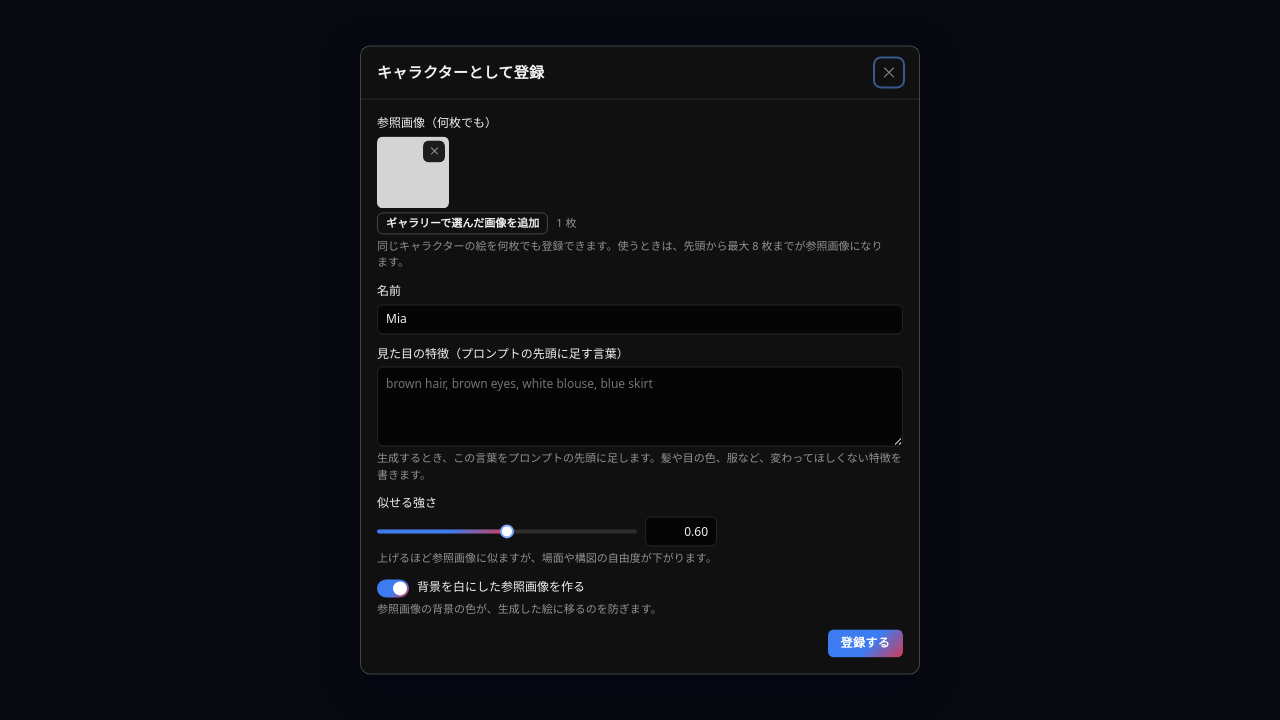
Test: cancelling a save › stops the white-background pass without an error and keeps the dialog open
expect the element with test id "character-dialog" is shown: met, box [377, 115, 903, 658]
Click the button with test id "character-save": (865, 644) [828, 630, 903, 658]
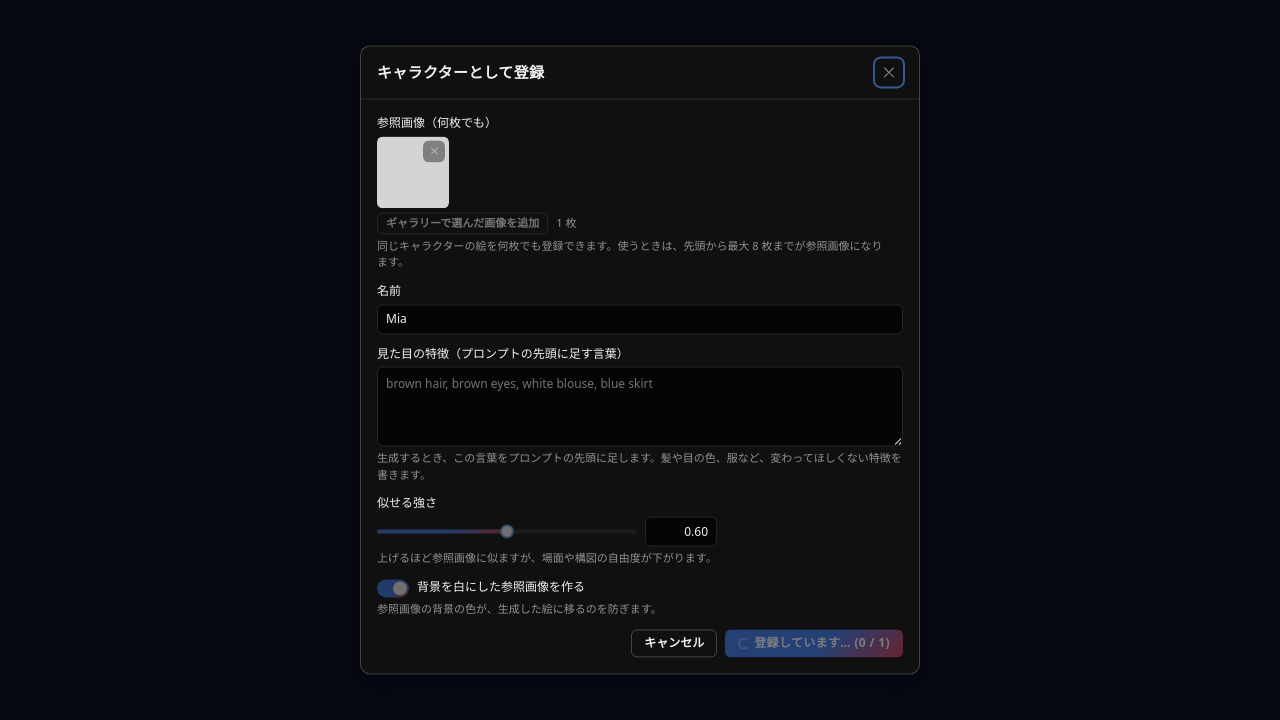
Click the button with test id "character-cancel": (674, 644) [631, 630, 717, 658]
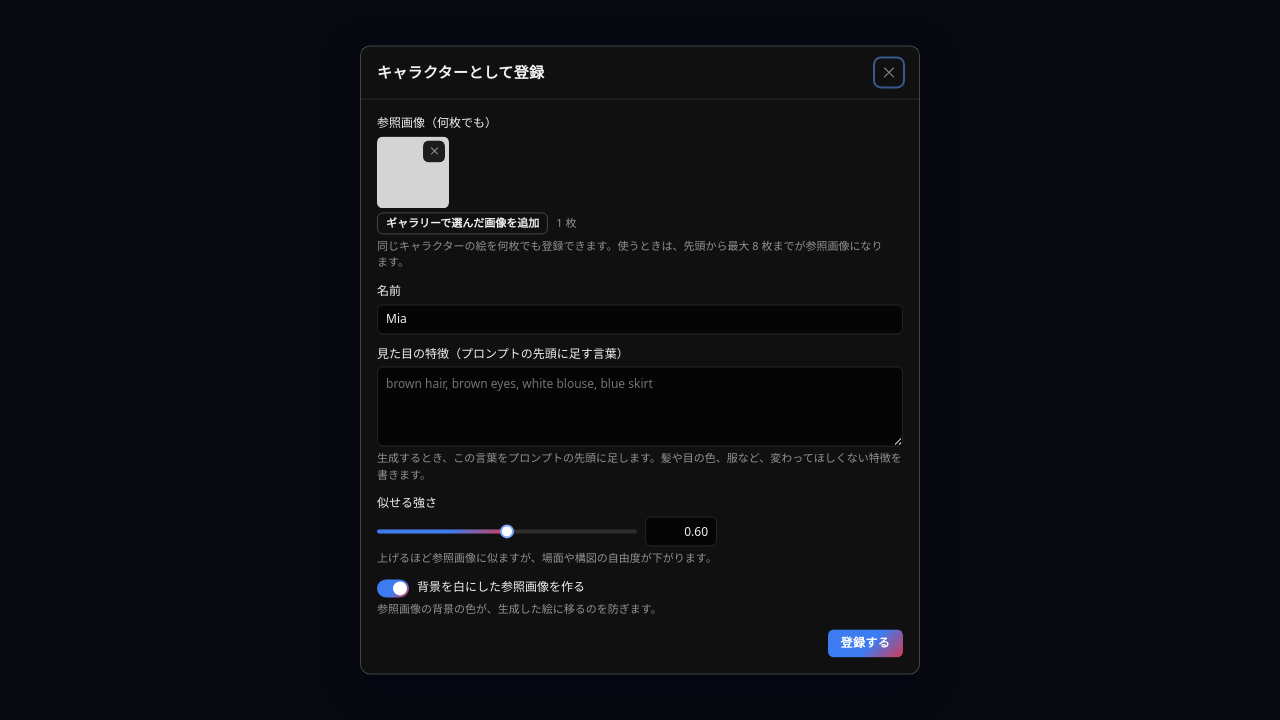
expect the button with test id "character-cancel" is gone: met
